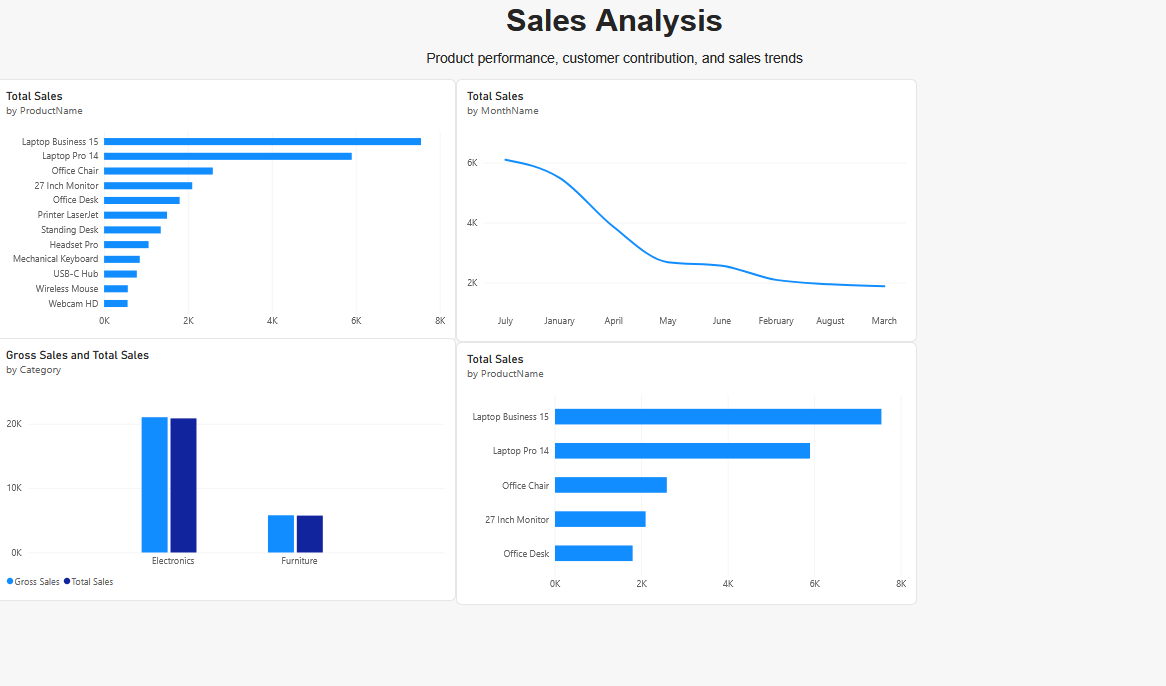

The page's visual inventory and layout, read from the dashboard file:
{"tool":"powerbi","page":{"name":"Sales Analysis","canvas":[1920,1080],"ordinal":1},"visuals":[{"type":"clusteredBarChart","fields":{"Category":["gold_dim_product.ProductName"],"Y":["gold_fact_sales.Total Sales"]},"box":[0,137.9,714.4,407.6],"z":0},{"type":"clusteredColumnChart","fields":{"Category":["gold_dim_product.Category"],"Y":["gold_fact_sales.Gross Sales","gold_fact_sales.Total Sales"]},"box":[0,539.3,714,408],"z":1},{"type":"lineChart","fields":{"Category":["gold_dim_date.MonthName"],"Y":["gold_fact_sales.Total Sales"]},"box":[714.4,137.9,714.4,407.6],"z":2},{"type":"clusteredBarChart","fields":{"Category":["gold_dim_product.ProductName"],"Y":["gold_fact_sales.Total Sales"]},"box":[714.4,545.5,714.4,407.6],"z":3},{"type":"textbox","box":[0,0,1920,137.9],"z":4}]}

Visuals, with their boxes on the page's 1920x1080 design canvas (x1, y1, x2, y2). These are canvas units, not pixel positions in the 1166x686 screenshot, which may show the page scaled, cropped or inside an application window:
clusteredBarChart - gold_dim_product.ProductName x gold_fact_sales.Total Sales: crop(0, 138, 714, 546)
clusteredColumnChart - gold_dim_product.Category x gold_fact_sales.Gross Sales: crop(0, 539, 714, 947)
lineChart - gold_dim_date.MonthName x gold_fact_sales.Total Sales: crop(714, 138, 1429, 546)
clusteredBarChart - gold_dim_product.ProductName x gold_fact_sales.Total Sales: crop(714, 546, 1429, 953)
textbox: crop(0, 0, 1920, 138)
